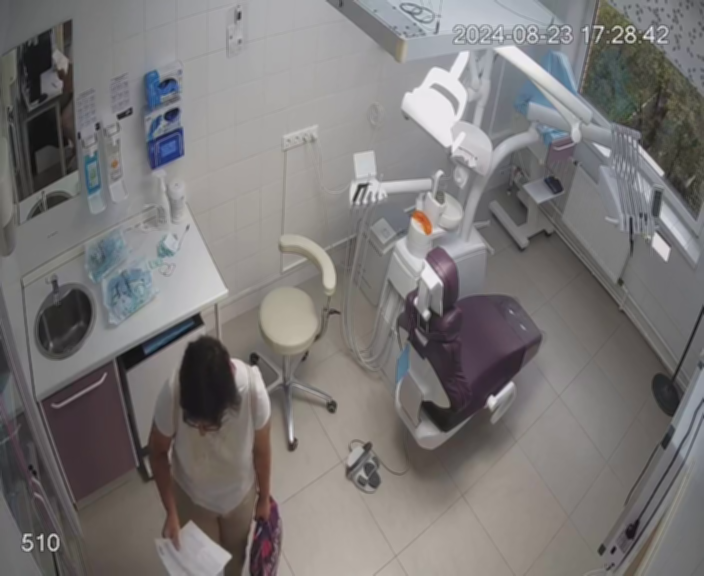Empty: (391, 254, 541, 451), (361, 349, 390, 353)
